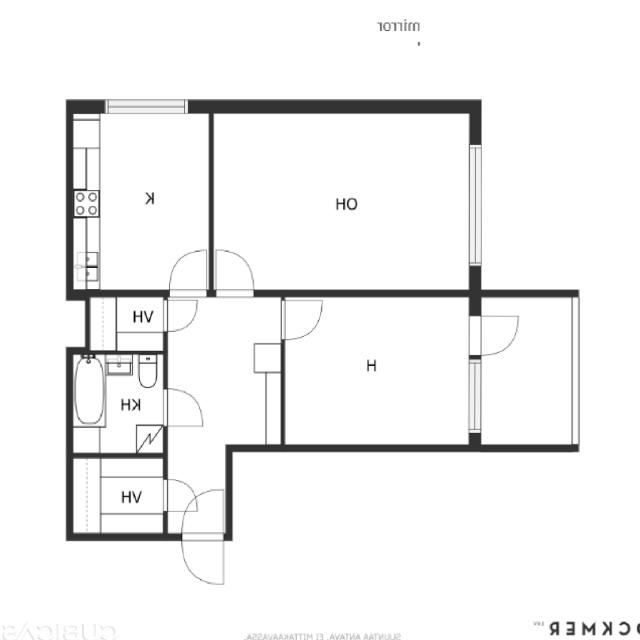door: (174, 486, 231, 591), (210, 244, 262, 301), (158, 382, 212, 436), (162, 244, 212, 300), (276, 293, 328, 342), (473, 312, 521, 356), (159, 474, 203, 516), (160, 295, 202, 336)
window: (463, 140, 488, 270), (99, 92, 196, 119), (469, 360, 483, 434)
zone: (206, 110, 473, 290), (280, 294, 476, 447), (70, 109, 214, 295), (162, 294, 285, 457), (477, 294, 575, 448), (66, 351, 168, 455), (68, 454, 168, 538), (83, 292, 168, 356)
